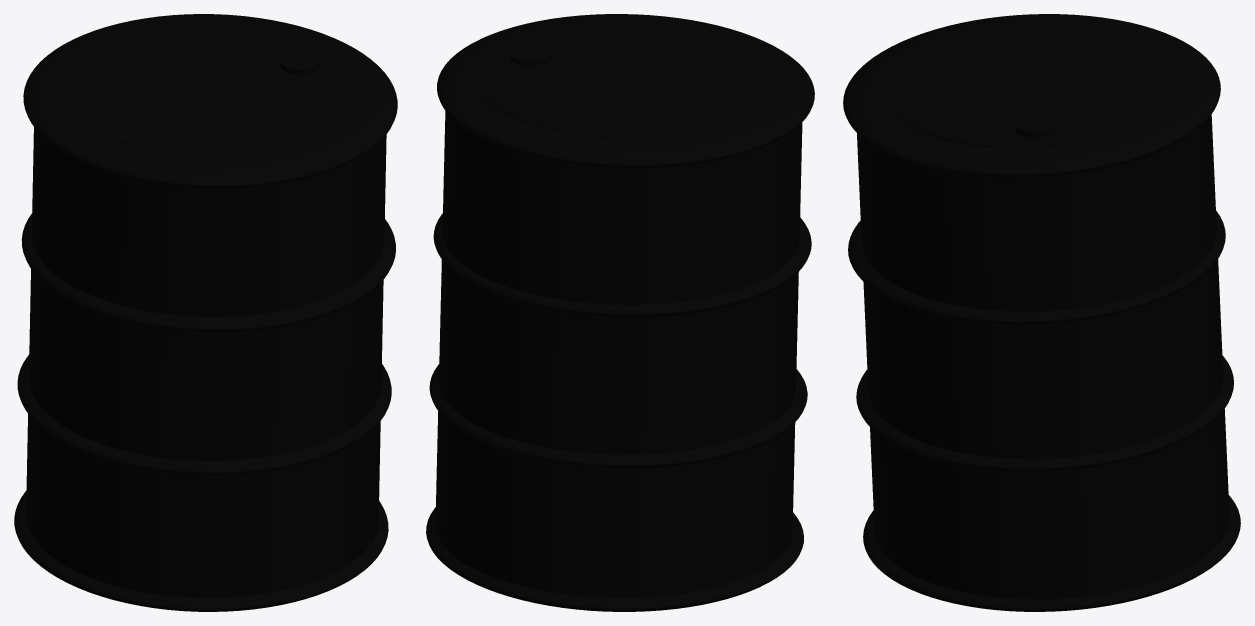
The model's file is Barrel.fbx.
The picture shows the model from 3 angles, left to right: view 1: azimuth 30°, elevation 25°; view 2: azimuth 150°, elevation 25°; view 3: azimuth 270°, elevation 25°; orthographic projection.
Visible parts, largest first — view 1: node_id36, node_id40, node_id44, node_id32, node_id38, node_id42, node_id30; view 2: node_id36, node_id40, node_id44, node_id42, node_id38, node_id32, node_id30; view 3: node_id36, node_id40, node_id44, node_id32, node_id38, node_id42, node_id30.
Part boxes in pixels (x1,y1,x2,y2): node_id36: (26,127,386,597); node_id40: (64,22,359,156); node_id44: (23,14,397,188); node_id32: (21,213,395,332); node_id38: (17,354,391,475); node_id42: (14,490,388,611); node_id30: (279,51,320,74); node_id36: (435,111,802,597); node_id40: (475,20,773,138); node_id44: (437,14,814,168); node_id42: (426,507,803,611); node_id38: (429,364,807,468); node_id32: (433,213,811,317); node_id30: (510,44,551,65); node_id36: (857,114,1229,599); node_id40: (884,22,1180,148); node_id44: (843,14,1220,177); node_id32: (848,210,1225,324); node_id38: (856,355,1233,471); node_id42: (863,495,1240,611); node_id30: (1015,115,1056,137).
Bounding box in the file's own units: 0.3682 × 0.5053 × 0.3884.
Materials: 8 (7 with a texture image).
